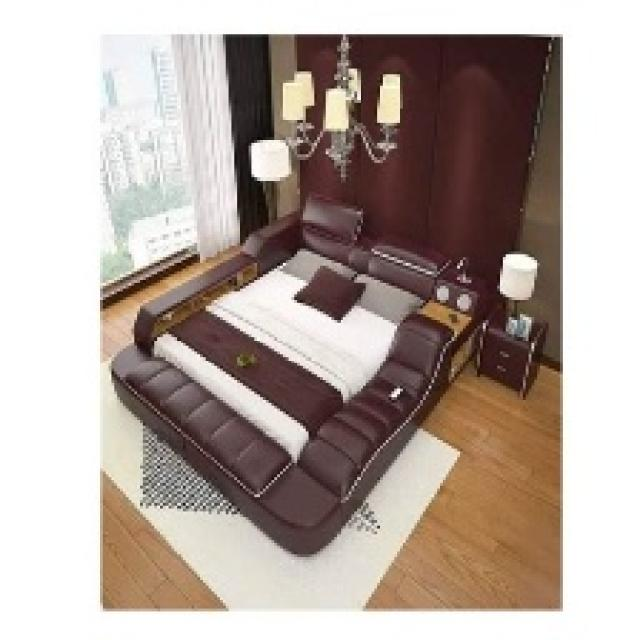Bed: (106, 192, 491, 554)
